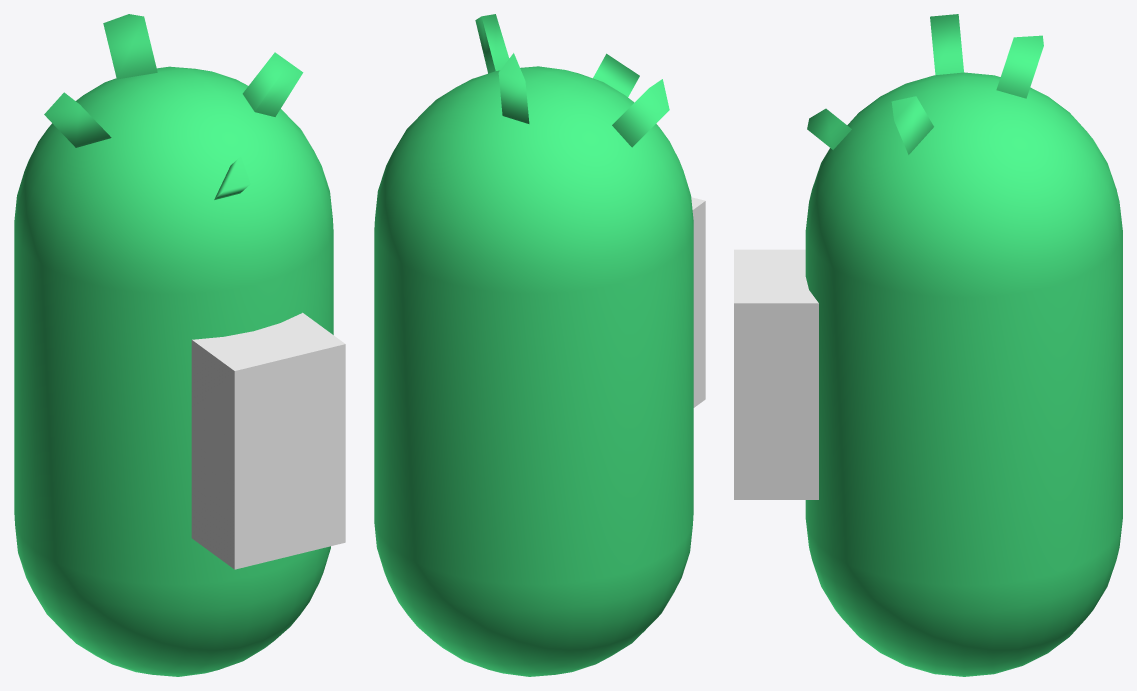
Rendered from Player.fbx.
3 views of the same model, side by side, from view 1: azimuth 30°, elevation 25°; view 2: azimuth 150°, elevation 25°; view 3: azimuth 270°, elevation 25° (orthographic).
Parts seen in each view (by area): view 1: Player, Piippu; view 2: Player, Piippu; view 3: Player, Piippu.
Boxes of the visible parts, x1=… form: Player: x1=14, y1=14, x2=333, y2=676; Piippu: x1=191, y1=312, x2=345, y2=569; Player: x1=374, y1=14, x2=693, y2=676; Piippu: x1=691, y1=197, x2=705, y2=407; Player: x1=805, y1=14, x2=1122, y2=676; Piippu: x1=734, y1=249, x2=818, y2=499.
Size of the model in its own units: 100 by 217 by 123.
